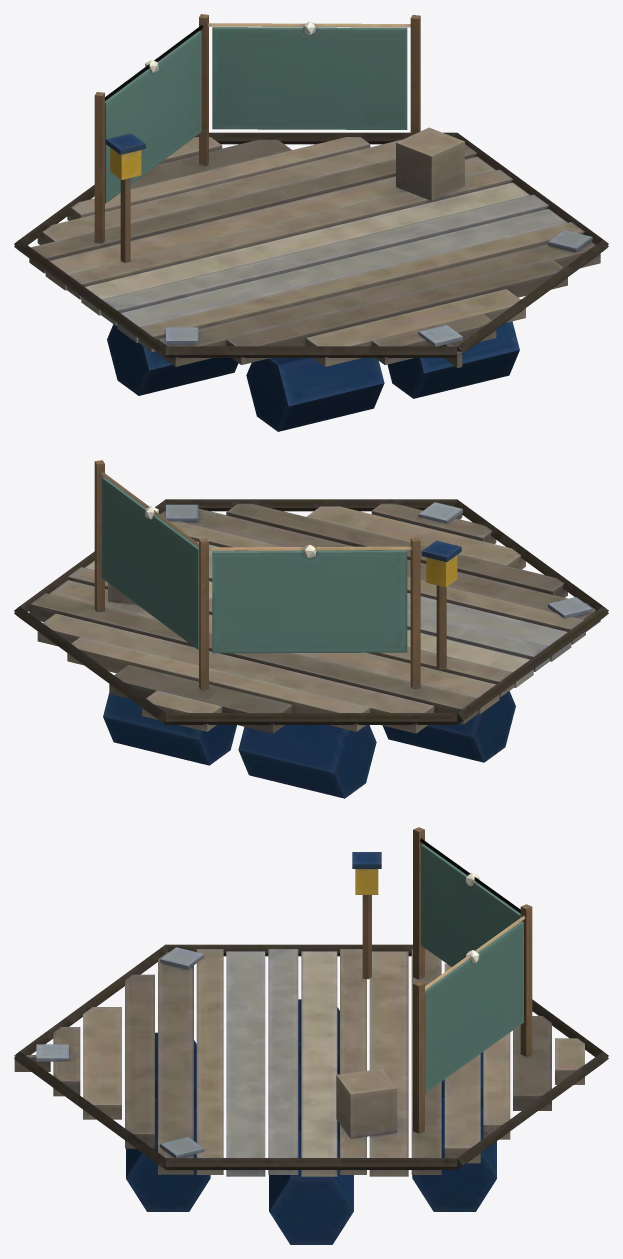
Rendered from raft-b-age10-lite.glb.
The picture shows the model from 3 angles, top to bottom: view 1: azimuth 30°, elevation 25°; view 2: azimuth 150°, elevation 25°; view 3: azimuth 270°, elevation 25°; orthographic projection.
Visible parts, largest first — view 1: raft-b-age10-lite; view 2: raft-b-age10-lite; view 3: raft-b-age10-lite.
Part boxes in pixels (x1=…): raft-b-age10-lite: x1=14, y1=14, x2=608, y2=431; raft-b-age10-lite: x1=14, y1=460, x2=608, y2=798; raft-b-age10-lite: x1=14, y1=827, x2=608, y2=1244.
Size of the model in its own units: 1.59 by 0.8426 by 1.83.
Materials: 1 (1 with a texture image).
